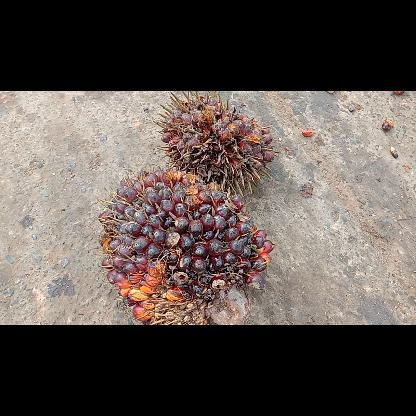Kurang masak: (92, 164, 274, 324)
TBS masak: (154, 90, 280, 196)
